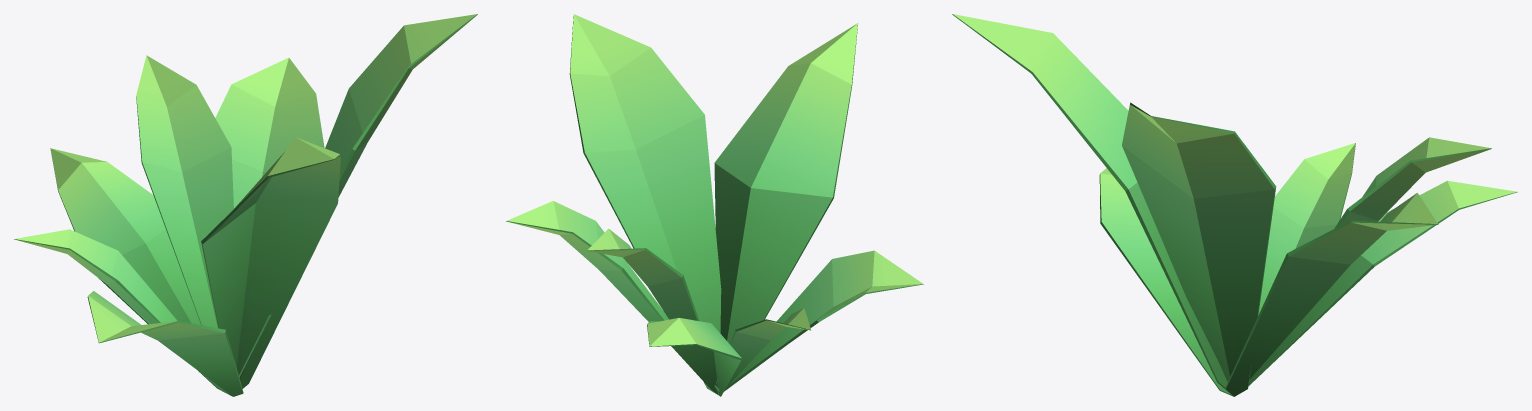
The model's file is GrassPatch2.fbx.
3 renders of one model, left to right at view 1: azimuth 30°, elevation 25°; view 2: azimuth 150°, elevation 25°; view 3: azimuth 270°, elevation 25°, orthographic. The views are drawn at different scales.
Visible parts, largest first — view 1: GrassPatch2; view 2: GrassPatch2; view 3: GrassPatch2.
Boxes of the visible parts, bbox=[...] form: GrassPatch2: bbox=[14, 14, 477, 396]; GrassPatch2: bbox=[506, 14, 923, 396]; GrassPatch2: bbox=[952, 14, 1517, 396].
Bounding box in the file's own units: 38.8 × 34.21 × 45.05.
